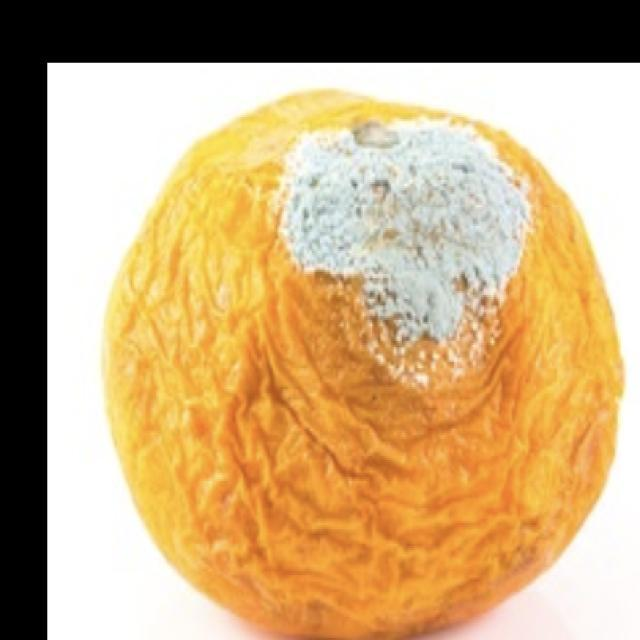sedikit-busuk: (105, 90, 623, 639)
